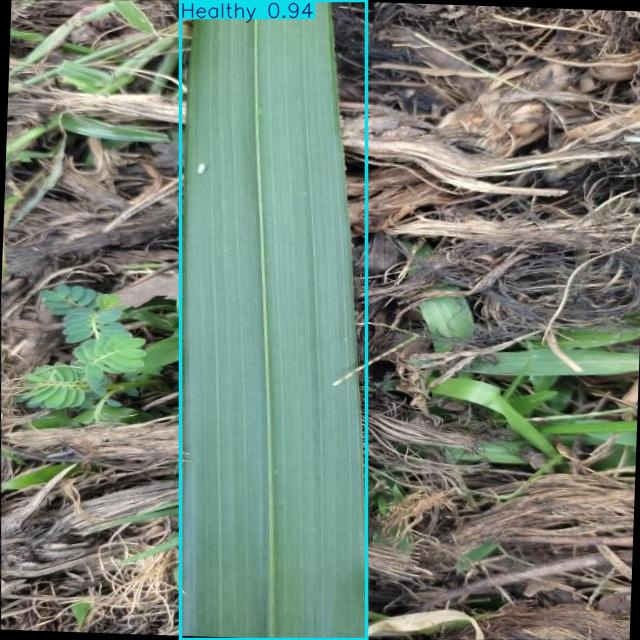Healthy: (180, 1, 366, 640)
